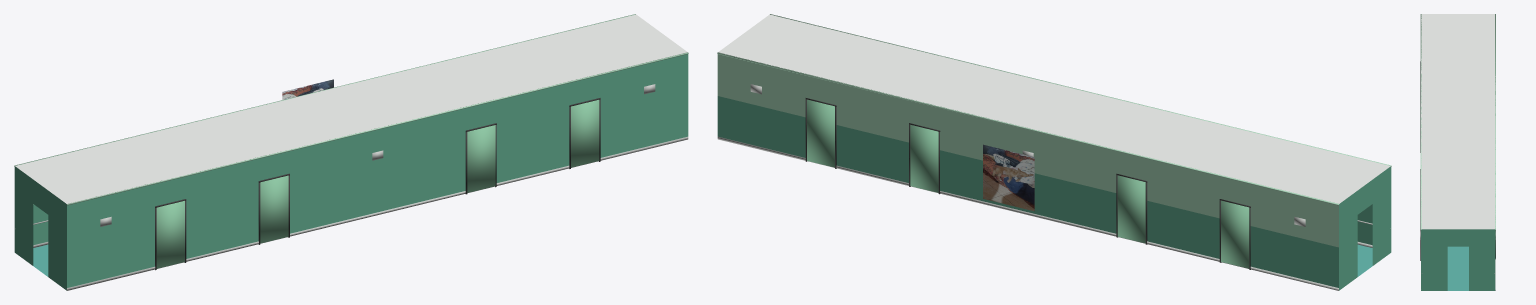
The model's file is pasillo1.fbx.
3 views of the same model, side by side, from view 1: azimuth 30°, elevation 25°; view 2: azimuth 150°, elevation 25°; view 3: azimuth 270°, elevation 25° (orthographic). The views are drawn at different scales.
Visible parts, largest first — view 1: Pared_Norte_VerdeOscuro, Techo, Zocalo_Norte, Puerta7_Panel, puerta_8_-1.003, puerta_8_-1.001, puerta_8_-1.002, Moldura_Norte, Pared_Oeste_VerdeClaro, Pared_Oeste_VerdeOscuro_Der, Pared_Oeste_VerdeOscuro_Izq, Moldura_Sur (+1 smaller); view 2: Pared_Norte_VerdeOscuro, Techo, Plane, Zocalo_Sur, puerta_8_-1.007, puerta_8_-1.006, puerta_8_-1.005, puerta_8_-1.004, Moldura_Sur, Pared_Oeste_VerdeClaro, Pared_Oeste_VerdeOscuro_Izq, Pared_Oeste_VerdeOscuro_Der (+1 smaller); view 3: Techo, Pared_Este_VerdeClaro, Pared_Este_VerdeOscuro_Izq, Pared_Este_VerdeOscuro_Der, Piso, Moldura_Norte, Moldura_Sur.
Part boxes in pixels (x1,y1,x2,y2): Pared_Norte_VerdeOscuro: (33,54,688,287); Techo: (15,14,687,203); Zocalo_Norte: (66,136,688,290); Puerta7_Panel: (571,99,599,167); puerta_8_-1.003: (156,200,184,268); puerta_8_-1.001: (467,125,495,192); puerta_8_-1.002: (260,175,288,243); Moldura_Norte: (66,52,688,205); Pared_Oeste_VerdeClaro: (14,166,66,228); Pared_Oeste_VerdeOscuro_Der: (14,190,33,265); Pared_Oeste_VerdeOscuro_Izq: (48,215,66,290); Moldura_Sur: (14,14,635,166); Pared_Norte_VerdeOscuro: (717,54,1372,287); Techo: (718,14,1390,203); Plane: (983,144,1034,211); Zocalo_Sur: (717,136,1338,290); puerta_8_-1.007: (1221,200,1249,268); puerta_8_-1.006: (1117,175,1145,243); puerta_8_-1.005: (910,125,938,192); puerta_8_-1.004: (807,99,834,167); Moldura_Sur: (717,52,1339,205); Pared_Oeste_VerdeClaro: (1339,166,1391,228); Pared_Oeste_VerdeOscuro_Izq: (1372,190,1391,265); Pared_Oeste_VerdeOscuro_Der: (1339,215,1357,290); Techo: (1421,14,1495,229); Pared_Este_VerdeClaro: (1421,229,1495,246); Pared_Este_VerdeOscuro_Izq: (1421,246,1447,290); Pared_Este_VerdeOscuro_Der: (1469,246,1495,290); Piso: (1447,246,1468,290); Moldura_Norte: (1420,14,1421,229); Moldura_Sur: (1495,14,1495,230).
Size of the model in its own units: 24 by 3.22 by 4.76.
Materials: 25 (8 with a texture image).
